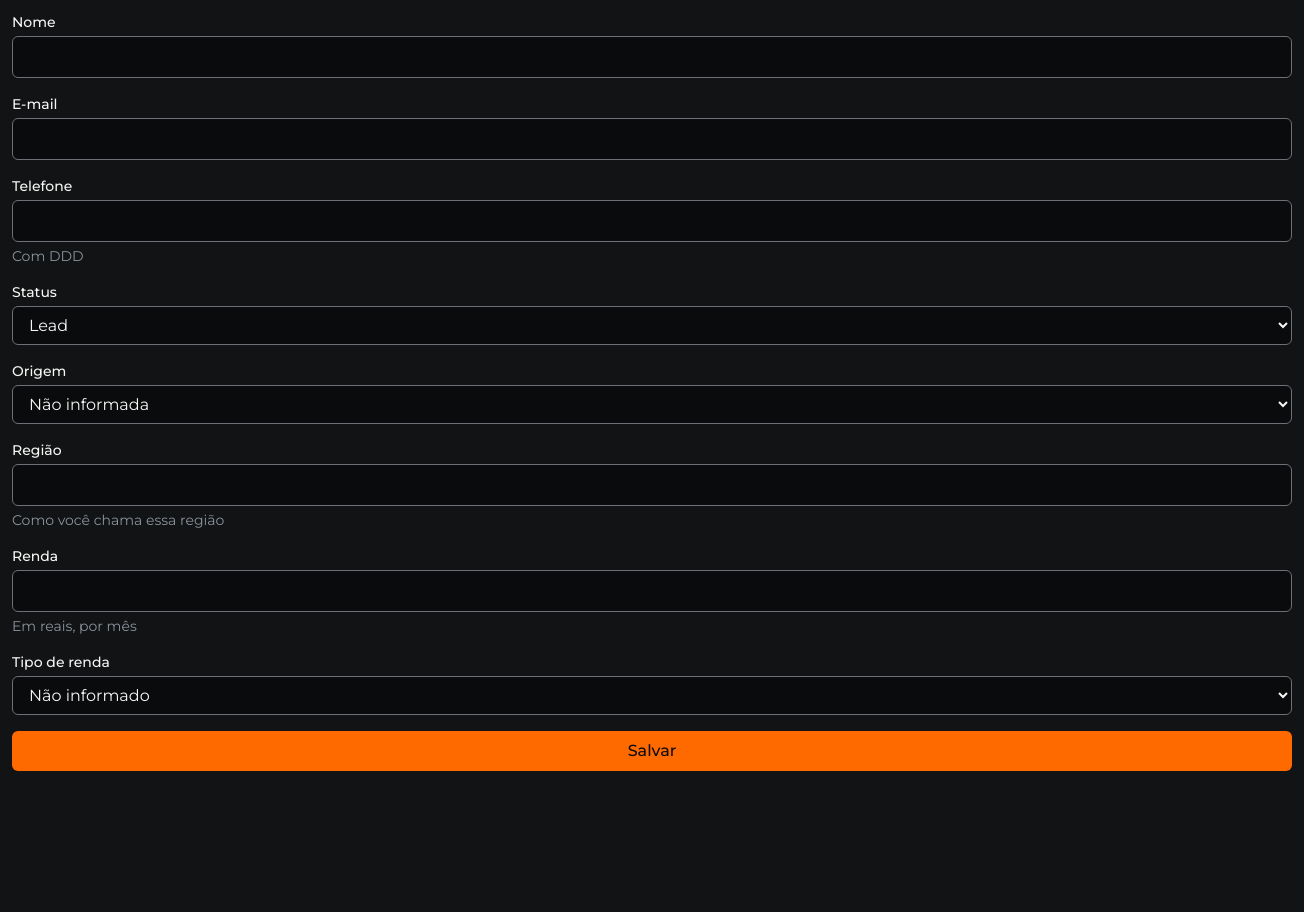
Test: FormularioDeCliente › recusa renda negativa, sem enviar
The image size is (1304, 912).
Type "Ana Prado" into the field labelled "Nome".
click(652, 57); type("Ana Prado")  # box [12,36,1292,78]
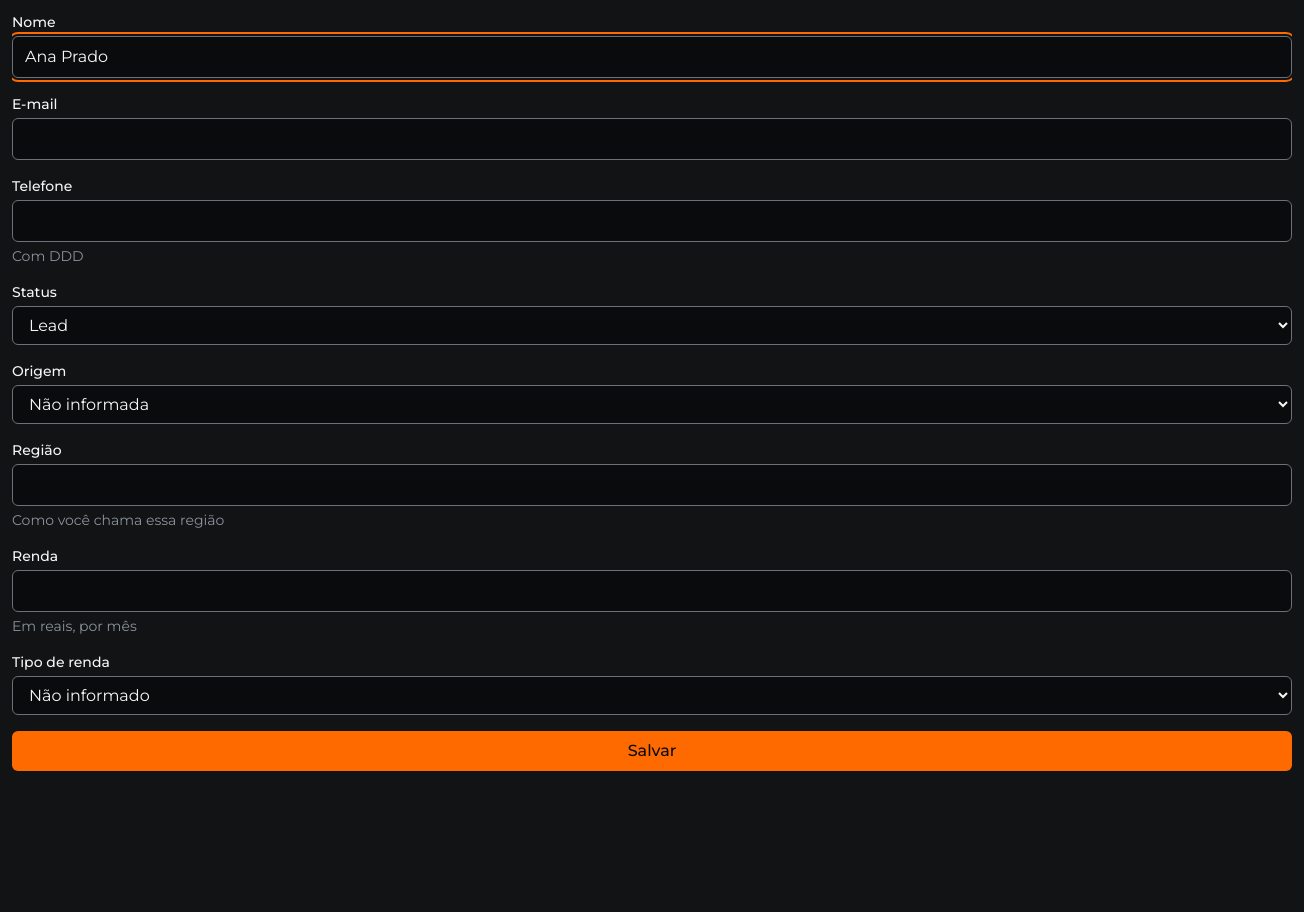
Type "-10" into the field labelled "Renda".
click(652, 591); type("-10")  # box [12,570,1292,612]
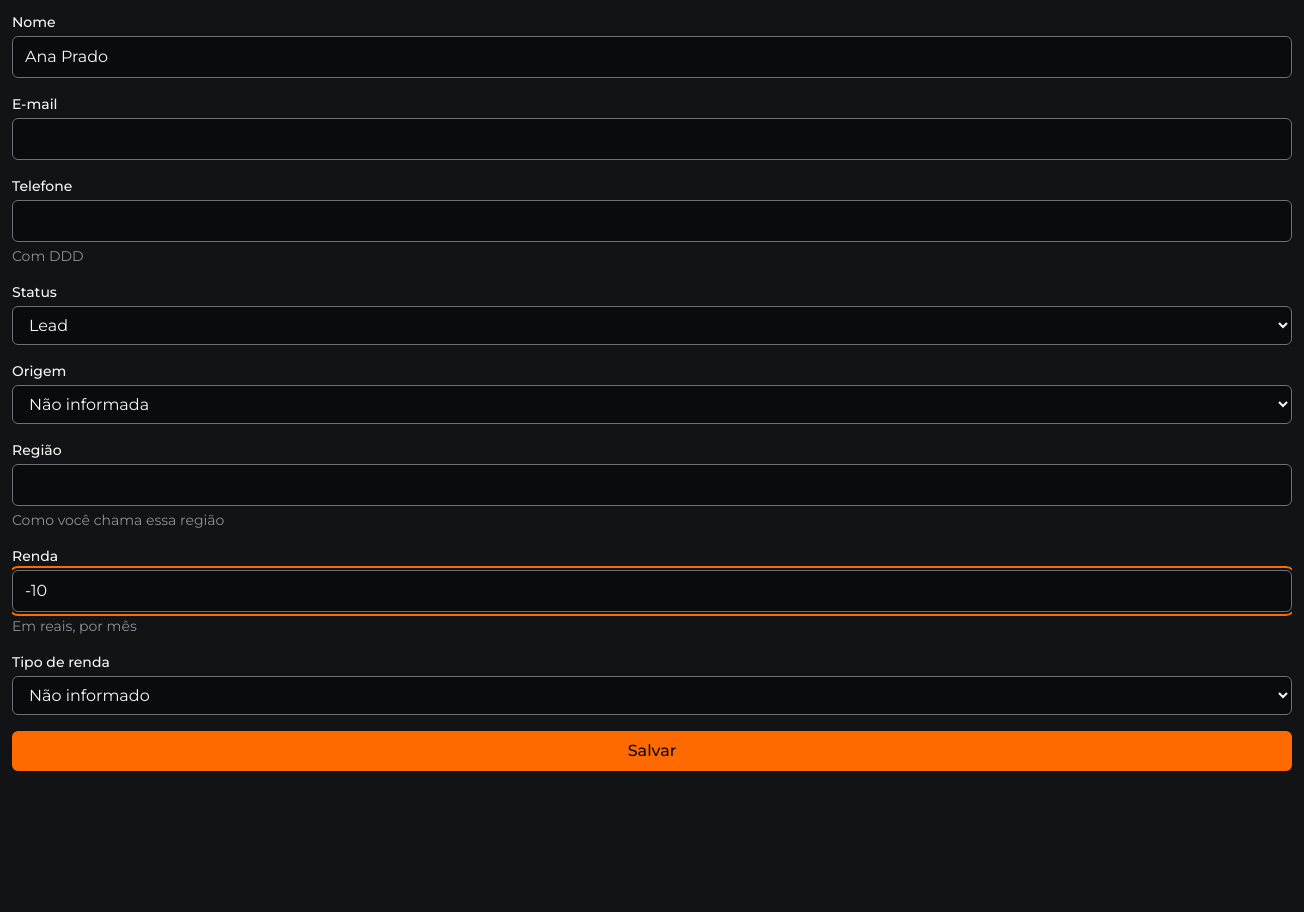
Click the button "Salvar".
click(652, 751)  # box [12,731,1292,771]
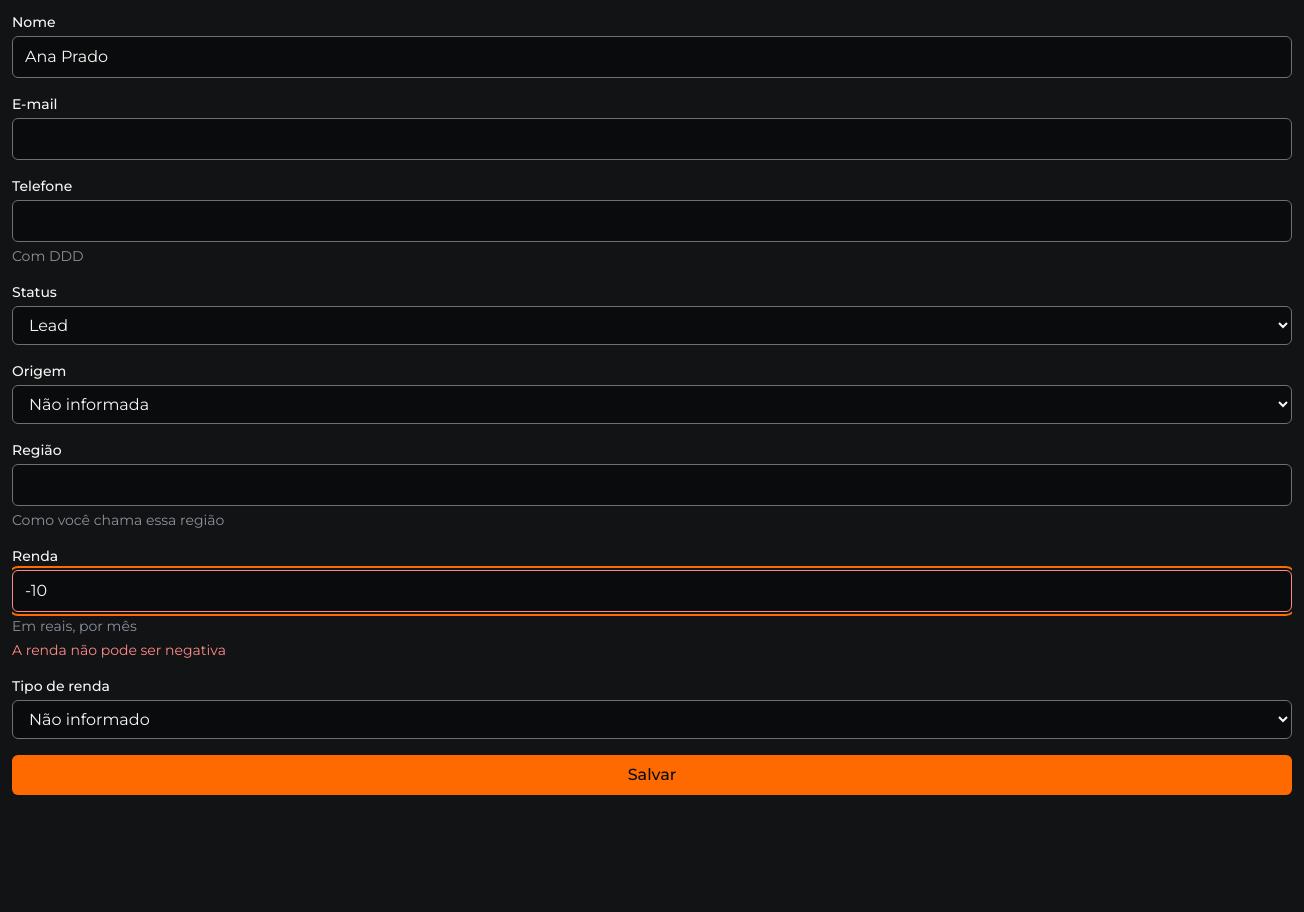
Now the text "A renda não pode ser negativa" is shown, box [12,641,226,659]
